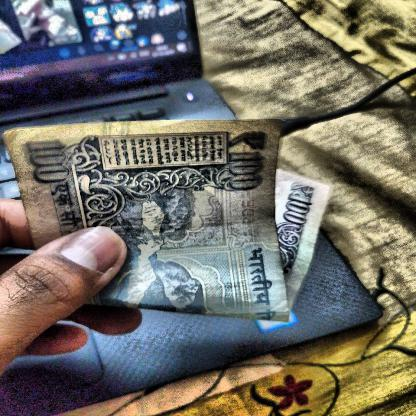Rs100: (216, 128, 277, 195), (19, 133, 76, 189)
